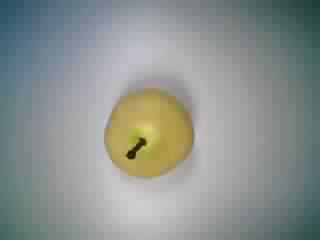pear: (91, 80, 201, 186)
